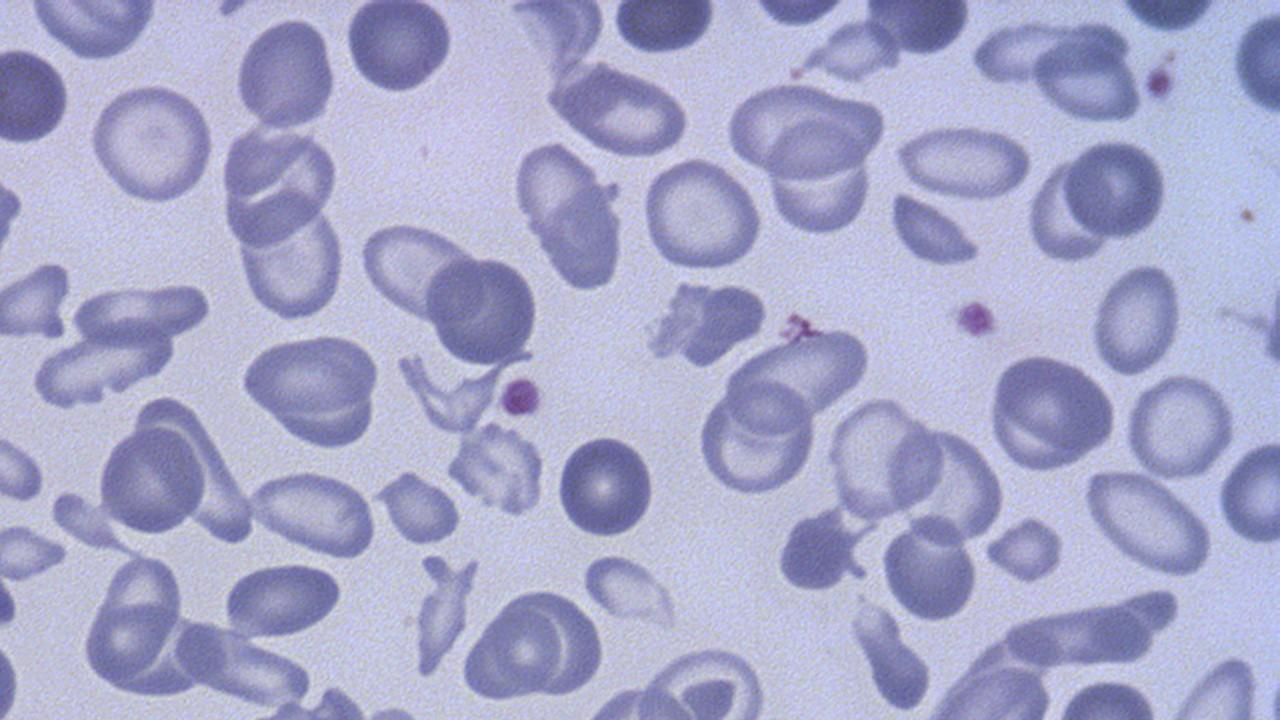RBC: (720, 310, 876, 434), (235, 330, 385, 451), (214, 118, 345, 251), (84, 80, 217, 207), (721, 74, 876, 180), (232, 190, 349, 326), (884, 420, 1007, 548), (694, 378, 820, 498), (822, 393, 940, 520), (639, 155, 767, 271), (990, 350, 1120, 464), (1081, 468, 1215, 578), (422, 252, 541, 366), (550, 65, 694, 158), (357, 218, 480, 326), (767, 117, 879, 234), (93, 424, 207, 538), (1122, 371, 1236, 481), (234, 15, 338, 134), (246, 466, 379, 558), (552, 430, 660, 540), (891, 118, 1034, 201), (1086, 260, 1186, 376), (1065, 135, 1173, 242), (1004, 596, 1156, 672), (880, 512, 982, 624), (341, 2, 458, 96), (630, 642, 776, 716), (538, 180, 626, 297), (221, 559, 347, 640), (510, 138, 603, 245), (1024, 154, 1112, 267), (408, 544, 480, 680), (1031, 40, 1145, 125), (21, 0, 166, 63), (81, 594, 177, 684), (578, 550, 684, 629), (968, 16, 1084, 88), (477, 604, 563, 698), (98, 551, 185, 643), (0, 42, 72, 150), (1217, 434, 1279, 546), (861, 0, 972, 60), (609, 0, 720, 60), (380, 468, 464, 546), (982, 512, 1067, 586), (1229, 3, 1279, 120), (814, 18, 902, 83), (1, 524, 70, 580), (0, 428, 48, 503), (738, 0, 856, 29), (1260, 255, 1280, 389), (0, 627, 24, 719)
WBC: (233, 319, 388, 454), (687, 373, 825, 496), (234, 186, 352, 328), (217, 123, 346, 242), (421, 250, 546, 370), (342, 0, 459, 98), (605, 1, 725, 60), (860, 1, 977, 58)
